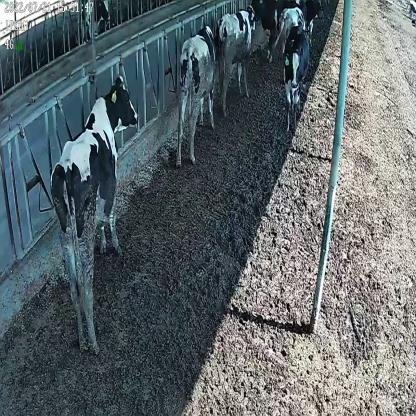cow: (49, 70, 139, 356), (174, 22, 218, 167), (217, 6, 256, 116), (283, 22, 311, 131), (274, 8, 306, 56)
